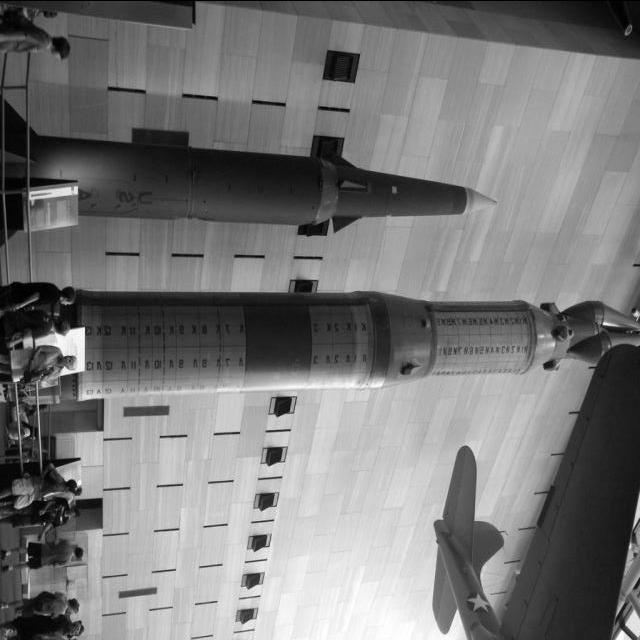missile: (54, 262, 629, 412), (0, 145, 493, 227)
